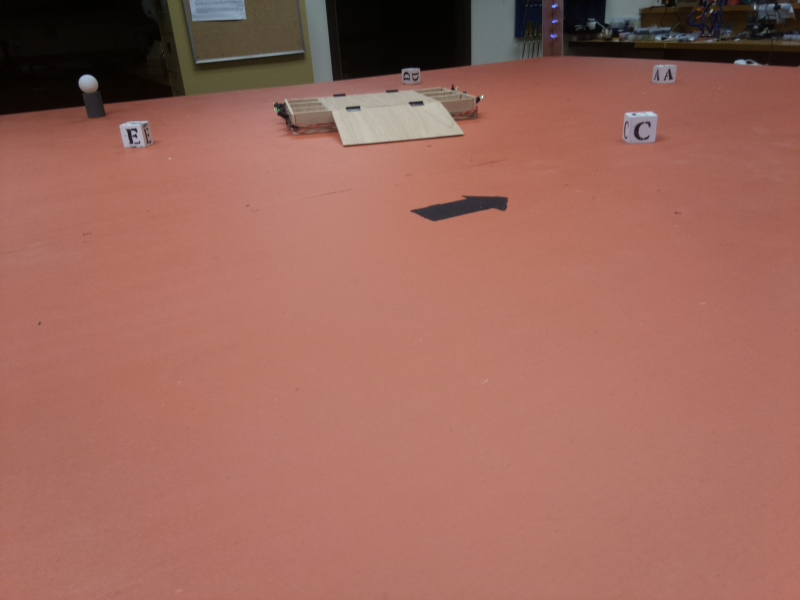blockA: (650, 63, 681, 85)
blockC: (618, 110, 658, 144)
blockD: (402, 66, 422, 85)
blockE: (116, 121, 159, 150)
obstacle: (71, 73, 113, 119)
side: (451, 84, 490, 108), (274, 100, 294, 132)
slope: (331, 102, 466, 145)
start: (397, 193, 509, 222)
